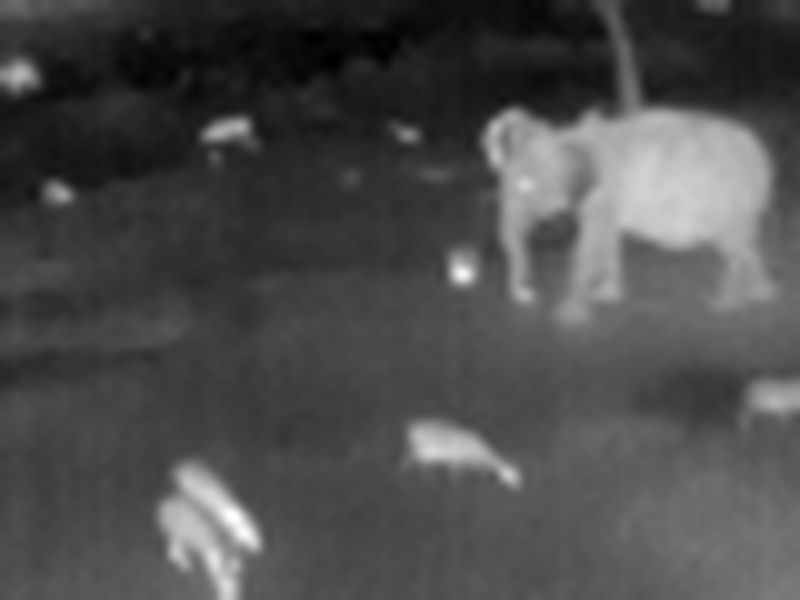elephant: (474, 89, 782, 323)
